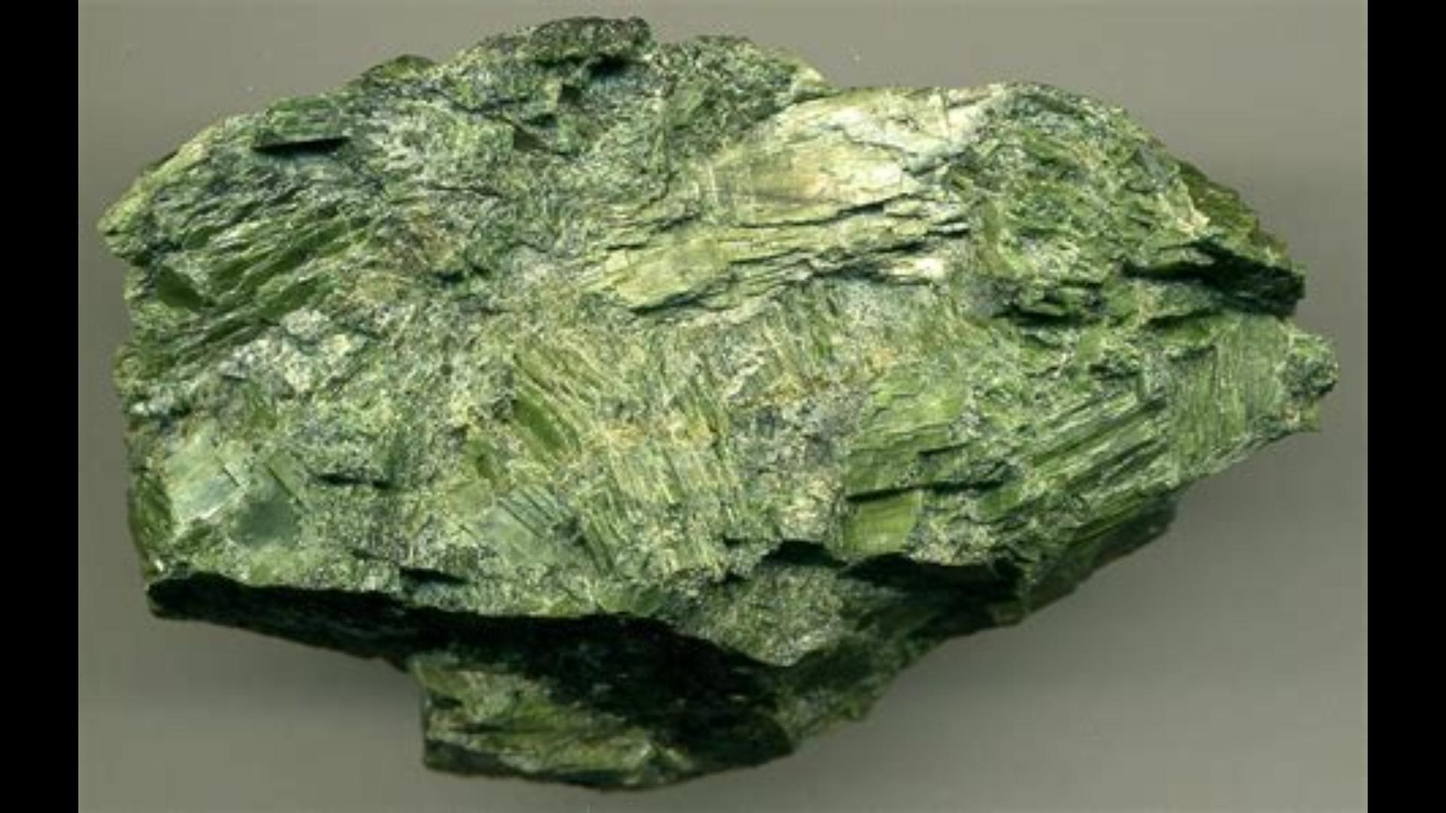rock: (100, 22, 1332, 783)
